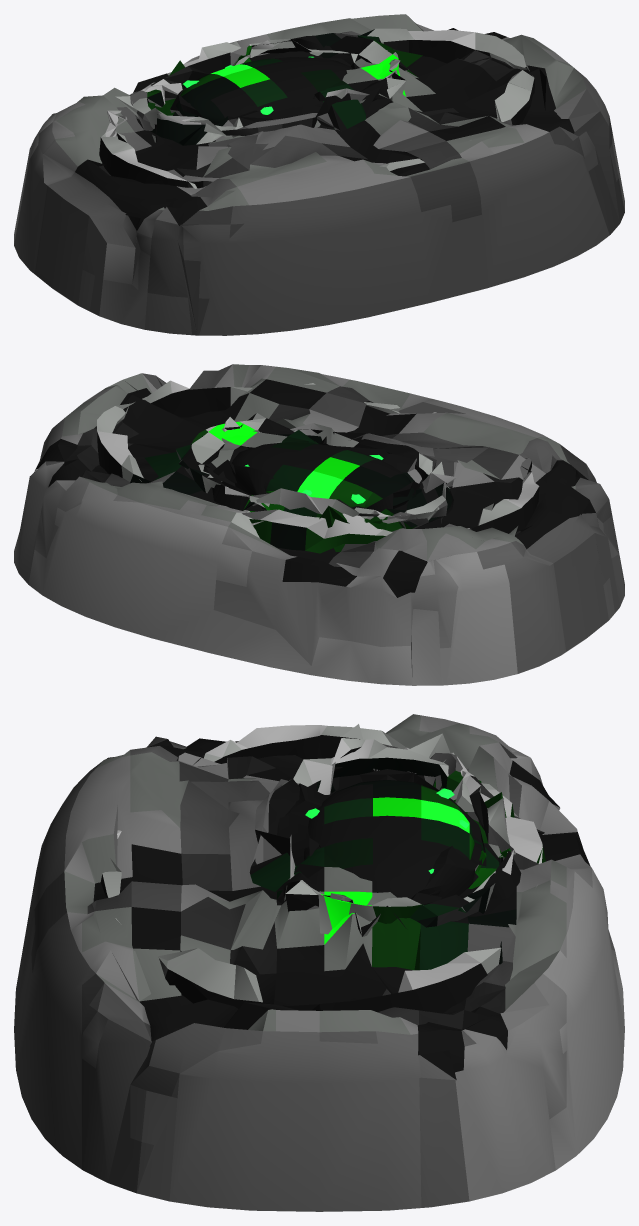
File: lens_pad_damaged.glb
3 renders of one model, top to bottom at view 1: azimuth 30°, elevation 25°; view 2: azimuth 150°, elevation 25°; view 3: azimuth 270°, elevation 25°, orthographic. The views are drawn at different scales.
Parts seen in each view (by area): view 1: pad, socket, rim, lens, socket_floor; view 2: pad, rim, socket, lens, socket_floor; view 3: pad, socket, rim, lens, socket_floor.
Part boxes in pixels (<box>): pad: <box>14,14,624,335</box>; socket: <box>115,33,408,145</box>; rim: <box>99,28,534,188</box>; lens: <box>176,57,351,124</box>; socket_floor: <box>170,51,350,117</box>; pad: <box>14,364,624,685</box>; rim: <box>97,380,539,553</box>; socket: <box>176,413,456,528</box>; lens: <box>232,442,414,509</box>; socket_floor: <box>213,436,423,512</box>; pad: <box>14,714,624,1211</box>; socket: <box>249,733,521,936</box>; rim: <box>100,724,545,1013</box>; lens: <box>304,780,474,898</box>; socket_floor: <box>309,769,486,904</box>.
Bounding box in the file's own units: 17.8 × 4.47 × 12.6.
